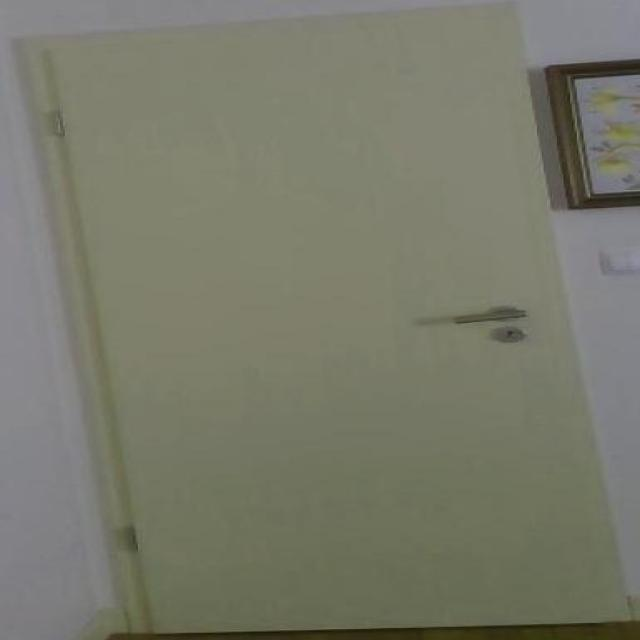door_handle: (442, 303, 535, 329)
